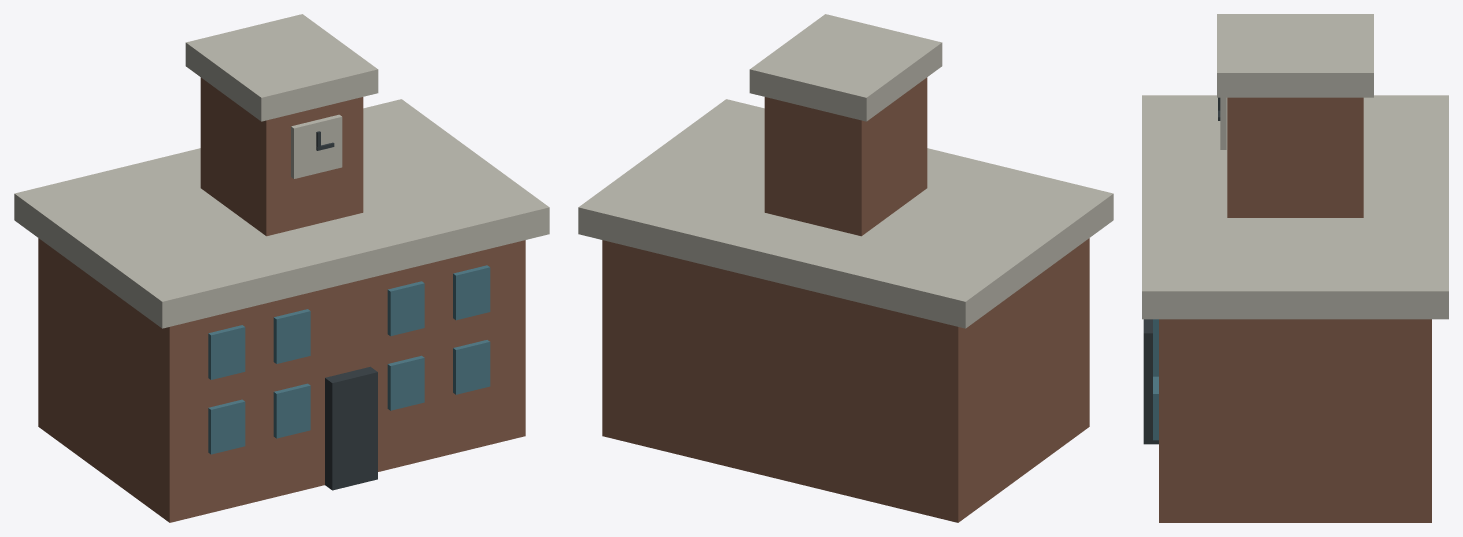
Rendered from campus-01.glb.
The picture shows the model from 3 angles, left to right: view 1: azimuth 30°, elevation 25°; view 2: azimuth 150°, elevation 25°; view 3: azimuth 270°, elevation 25°; orthographic projection. The views are drawn at different scales.
Visible parts, largest first — view 1: campus-01; view 2: campus-01; view 3: campus-01.
Boxes of the visible parts, x1,y1,x2,y2 form: campus-01: [14, 14, 549, 522]; campus-01: [578, 14, 1113, 522]; campus-01: [1142, 14, 1448, 522].
Size of the model in its own units: 1 by 0.9265 by 0.6618.
